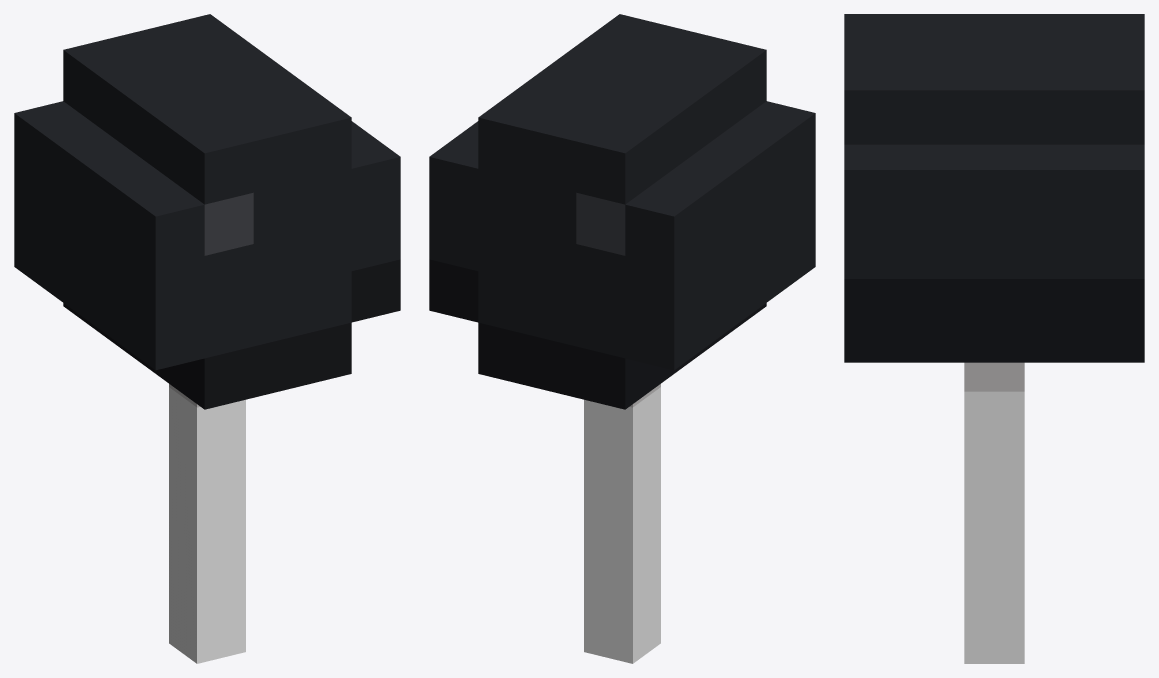
The model's file is Black Balloon.glb.
The picture shows the model from 3 angles, left to right: view 1: azimuth 30°, elevation 25°; view 2: azimuth 150°, elevation 25°; view 3: azimuth 270°, elevation 25°; orthographic projection. The views are drawn at different scales.
Visible parts, largest first — view 1: generated(Clone); view 2: generated(Clone); view 3: generated(Clone).
Part boxes in pixels (bbox=[...]): generated(Clone): bbox=[14, 14, 400, 663]; generated(Clone): bbox=[429, 14, 815, 663]; generated(Clone): bbox=[844, 14, 1144, 663].
Bounding box in the file's own units: 5 × 11 × 5.
1 material, 1 textured.
